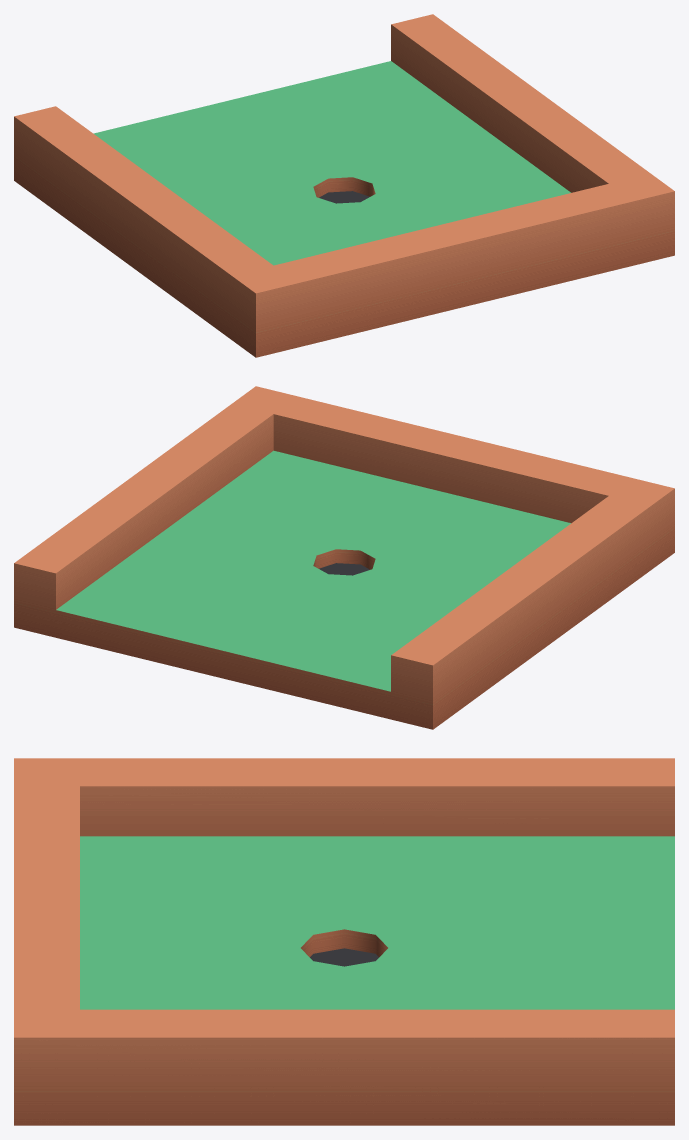
The model's file is hole-square.glb.
The picture shows the model from 3 angles, top to bottom: view 1: azimuth 30°, elevation 25°; view 2: azimuth 150°, elevation 25°; view 3: azimuth 270°, elevation 25°; orthographic projection. The views are drawn at different scales.
Visible parts, largest first — view 1: hole-square; view 2: hole-square; view 3: hole-square.
Part boxes in pixels (x1,y1,x2,y2): hole-square: (14, 14, 674, 357); hole-square: (14, 386, 674, 729); hole-square: (14, 758, 674, 1125).
Bounding box in the file's own units: 0.9999 × 0.1467 × 0.9999.
1 material, 1 textured.
